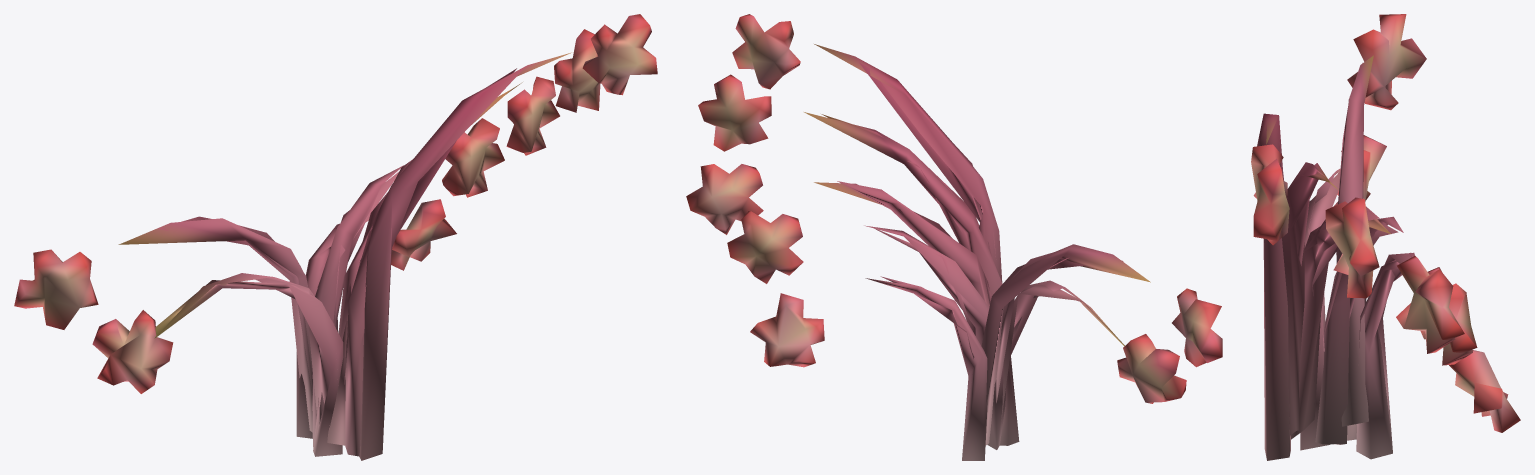
3 views of the same model, side by side, from view 1: azimuth 30°, elevation 25°; view 2: azimuth 150°, elevation 25°; view 3: azimuth 270°, elevation 25° (orthographic). The views are drawn at different scales.
Visible parts, largest first — view 1: LOD 4_252d2131-c142-53e4-8a7e-b15a0bf5ca77; view 2: LOD 4_252d2131-c142-53e4-8a7e-b15a0bf5ca77; view 3: LOD 4_252d2131-c142-53e4-8a7e-b15a0bf5ca77.
Part boxes in pixels (x1,y1,x2,y2): LOD 4_252d2131-c142-53e4-8a7e-b15a0bf5ca77: (14, 14, 657, 460); LOD 4_252d2131-c142-53e4-8a7e-b15a0bf5ca77: (686, 14, 1222, 460); LOD 4_252d2131-c142-53e4-8a7e-b15a0bf5ca77: (1251, 14, 1520, 460).
Bounding box in the file's own units: 13.82 × 8.55 × 4.58.
